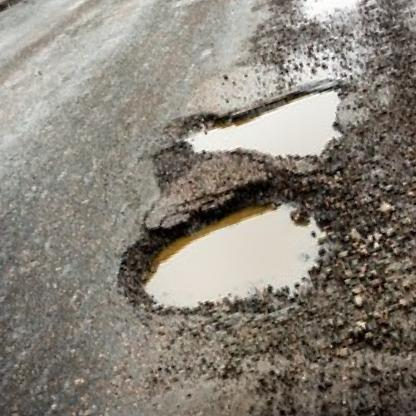pothole: (104, 160, 358, 351), (164, 59, 368, 202)
